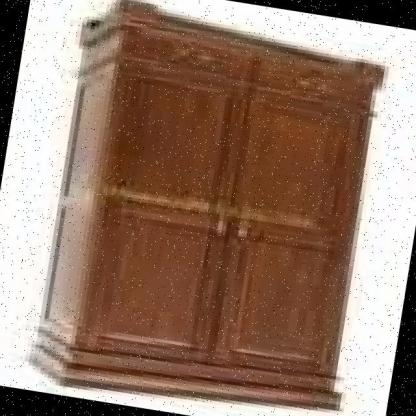Closet: (13, 0, 406, 416)
